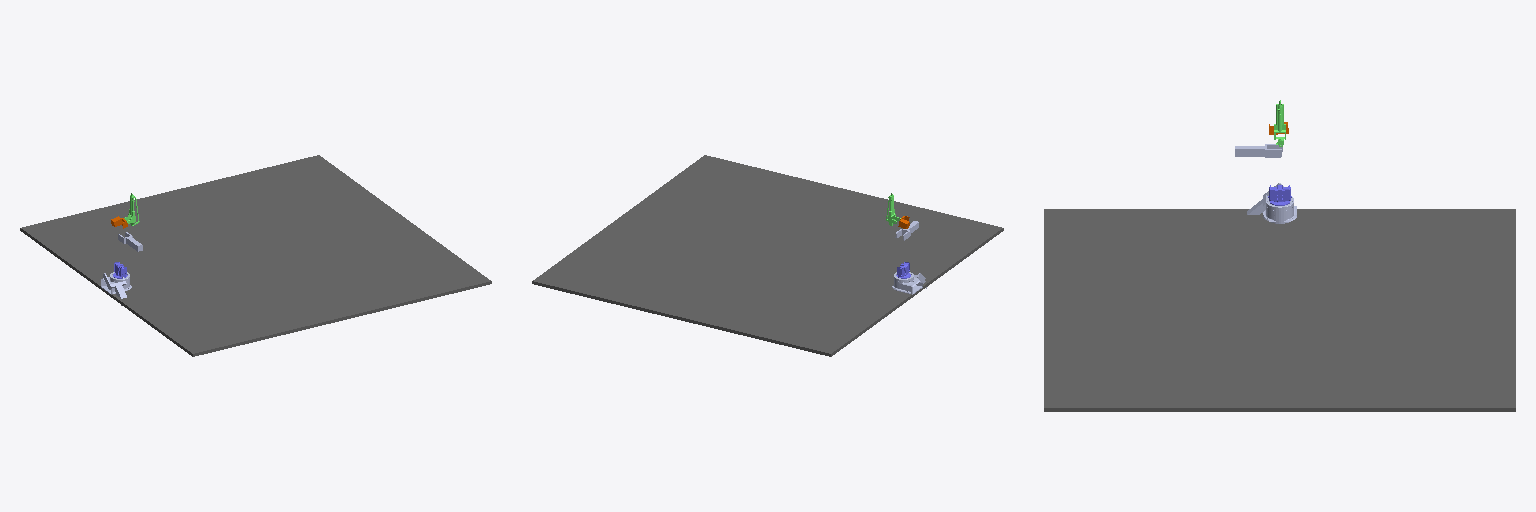
The robot description file, URDF, robot "me557_pen":
<?xml version='1.0' encoding='utf-8'?>
<robot name="me557_pen">
  <link name="base_link">
    <inertial>
      <origin xyz="-0.008662 6.915E-09 0.034203" rpy="0 0 0" />
      <mass value="0.49574" />
      <inertia ixx="0.0011079" ixy="1.4362E-10" ixz="-3.7324E-05" iyy="0.0011344" iyz="-8.7399E-11" izz="0.0016547" />
    </inertial>
    <visual>
      <origin xyz="0 0 0" rpy="0 0 0" />
      <geometry>
        <mesh filename="package://me557_pen_description/meshes/base_link.STL" />
      </geometry>
      <material name="">
        <color rgba="0.79216 0.81961 0.93333 1" />
      </material>
    </visual>
    <collision>
      <origin xyz="0 0 0" rpy="0 0 0" />
      <geometry>
        <mesh filename="package://me557_pen_description/meshes/base_link.STL" />
      </geometry>
    </collision>
  </link>
  <link name="floor">
    <visual>
      <origin xyz="0 0 0" rpy="0 0 0" />
      <geometry>
        <box size="2.0 2.0 0.02" />
      </geometry>
      <material name="floor_gray">
        <color rgba="0.45 0.45 0.45 1" />
      </material>
    </visual>
    <collision>
      <origin xyz="0 0 0" rpy="0 0 0" />
      <geometry>
        <box size="2.0 2.0 0.02" />
      </geometry>
    </collision>
  </link>
  <link name="Link1">
    <inertial>
      <origin xyz="-1.0615E-08 1.3952E-09 0.05044" rpy="0 0 0" />
      <mass value="0.24905" />
      <inertia ixx="0.00030195" ixy="6.1355E-07" ixz="2.7299E-11" iyy="0.0002068" iyz="4.0363E-11" izz="0.00019603" />
    </inertial>
    <visual>
      <origin xyz="0 0 0" rpy="0 0 0" />
      <geometry>
        <mesh filename="package://me557_pen_description/meshes/Link1.STL" />
      </geometry>
      <material name="">
        <color rgba="0.50196 0.50196 1 1" />
      </material>
    </visual>
    <collision>
      <origin xyz="0 0 0" rpy="0 0 0" />
      <geometry>
        <mesh filename="package://me557_pen_description/meshes/Link1.STL" />
      </geometry>
    </collision>
  </link>
  <joint name="base_to_floor" type="fixed">
    <origin xyz="0.91 0 -0.01" rpy="0 0 1.5708" />
    <parent link="base_link" />
    <child link="floor" />
  </joint>
  <joint name="Motor1_joint" type="revolute">
    <origin xyz="0 0 0.05" rpy="0 0 0" />
    <parent link="base_link" />
    <child link="Link1" />
    <axis xyz="0 0 -1" />
    <limit lower="-0.87265" upper="0.87265" effort="0" velocity="0" />
  </joint>
  <link name="Link2_L">
    <inertial>
      <origin xyz="1.5118E-06 0.13231 0.0003468" rpy="0 0 0" />
      <mass value="0.12701" />
      <inertia ixx="0.00076308" ixy="1.1682E-08" ixz="8.706E-09" iyy="0.00010667" iyz="-3.3149E-06" izz="0.00067538" />
    </inertial>
    <visual>
      <origin xyz="0 0 0" rpy="0 0 0" />
      <geometry>
        <mesh filename="package://me557_pen_description/meshes/Link2_L.STL" />
      </geometry>
      <material name="">
        <color rgba="0.79216 0.81961 0.93333 1" />
      </material>
    </visual>
    <collision>
      <origin xyz="0 0 0" rpy="0 0 0" />
      <geometry>
        <mesh filename="package://me557_pen_description/meshes/Link2_L.STL" />
      </geometry>
    </collision>
  </link>
  <joint name="Motor2_L" type="revolute">
    <origin xyz="0 0 0.049" rpy="1.5708 0 0.0064475" />
    <parent link="Link1" />
    <child link="Link2_L" />
    <axis xyz="0 0 1" />
    <limit lower="-1.047195" upper="1.047195" effort="0" velocity="0" />
  </joint>
  <link name="Link4">
    <inertial>
      <origin xyz="0.00036697 0.055834 -0.0004101" rpy="0 0 0" />
      <mass value="0.083206" />
      <inertia ixx="9.1587E-05" ixy="-1.7788E-06" ixz="-2.7941E-07" iyy="2.5642E-05" iyz="2.0881E-06" izz="8.5875E-05" />
    </inertial>
    <visual>
      <origin xyz="0 0 0" rpy="0 0 0" />
      <geometry>
        <mesh filename="package://me557_pen_description/meshes/Link4.STL" />
      </geometry>
      <material name="">
        <color rgba="0.79216 0.81961 0.93333 1" />
      </material>
    </visual>
    <collision>
      <origin xyz="0 0 0" rpy="0 0 0" />
      <geometry>
        <mesh filename="package://me557_pen_description/meshes/Link4.STL" />
      </geometry>
    </collision>
  </link>
  <joint name="Motor4_elb" type="revolute">
    <origin xyz="0 0.2247 0.00104" rpy="0 0 0" />
    <parent link="Link2_L" />
    <child link="Link4" />
    <axis xyz="0 0 1" />
    <limit lower="-1.876225" upper="1.876225" effort="0" velocity="0" />
  </joint>
  <link name="Link5">
    <inertial>
      <origin xyz="-0.010184 -0.0007354 0.034941" rpy="0 0 0" />
      <mass value="0.053757" />
      <inertia ixx="1.8975E-05" ixy="3.4773E-08" ixz="4.7677E-06" iyy="2.5817E-05" iyz="2.3142E-07" izz="1.7812E-05" />
    </inertial>
    <visual>
      <origin xyz="0 0 0" rpy="0 0 0" />
      <geometry>
        <mesh filename="package://me557_pen_description/meshes/Link5.STL" />
      </geometry>
      <material name="">
        <color rgba="0.9098 0.44314 0.031373 1" />
      </material>
    </visual>
    <collision>
      <origin xyz="0 0 0" rpy="0 0 0" />
      <geometry>
        <mesh filename="package://me557_pen_description/meshes/Link5.STL" />
      </geometry>
    </collision>
  </link>
  <joint name="Motor5_wr" type="revolute">
    <origin xyz="0.00108 0.0935 -0.001" rpy="1.5708 0 1.5708" />
    <parent link="Link4" />
    <child link="Link5" />
    <axis xyz="0 0 -1" />
    <limit lower="-0.95995" upper="0.95995" effort="0" velocity="0" />
  </joint>
  <link name="Link6">
    <inertial>
      <origin xyz="0.048807 0.037513 -0.0021456" rpy="0 0 0" />
      <mass value="0.081357" />
      <inertia ixx="2.8223E-05" ixy="-3.704E-06" ixz="-2.8914E-06" iyy="0.00024631" iyz="5.6477E-07" izz="0.00024327" />
    </inertial>
    <visual>
      <origin xyz="0 0 0" rpy="0 0 0" />
      <geometry>
        <mesh filename="package://me557_pen_description/meshes/Link6.STL" />
      </geometry>
      <material name="">
        <color rgba="0.50196 1 0.50196 1" />
      </material>
    </visual>
    <collision>
      <origin xyz="0 0 0" rpy="0 0 0" />
      <geometry>
        <mesh filename="package://me557_pen_description/meshes/Link6.STL" />
      </geometry>
    </collision>
  </link>
  <joint name="Joint_EE" type="revolute">
    <origin xyz="0 -0.001 0.041" rpy="1.5708 0 0" />
    <parent link="Link5" />
    <child link="Link6" />
    <axis xyz="0 0 1" />
    <limit lower="-1.1781" upper="1.1781" effort="0" velocity="0" />
  </joint>
  <link name="Pen_tip">
    <inertial>
      <origin xyz="1.2388E-08 -1.5096E-08 -0.0095156" rpy="0 0 0" />
      <mass value="0.00038082" />
      <inertia ixx="6.068E-09" ixy="2.1976E-14" ixz="1.8806E-14" iyy="6.0679E-09" iyz="-2.2912E-14" izz="1.8923E-09" />
    </inertial>
    <visual>
      <origin xyz="0 0 0" rpy="0 0 0" />
      <geometry>
        <mesh filename="package://me557_pen_description/meshes/Pen_tip.STL" />
      </geometry>
      <material name="">
        <color rgba="0.50196 1 0.50196 1" />
      </material>
    </visual>
    <collision>
      <origin xyz="0 0 0" rpy="0 0 0" />
      <geometry>
        <mesh filename="package://me557_pen_description/meshes/Pen_tip.STL" />
      </geometry>
    </collision>
  </link>
  <joint name="pen_tip_fixed" type="fixed">
    <origin xyz="0.17403 0.0375 -0.00098" rpy="1.5708 -1.5643 1.5708" />
    <parent link="Link6" />
    <child link="Pen_tip" />
  </joint>
  <link name="Link3_R">
    <inertial>
      <origin xyz="0.052802 -0.10824 0.024307" rpy="0 0 0" />
      <mass value="5.5098" />
      <inertia ixx="0.21583" ixy="0.00015166" ixz="-0.00045441" iyy="0.10918" iyz="0.049251" izz="0.15359" />
    </inertial>
  </link>
  <joint name="Motor3_R" type="revolute">
    <origin xyz="-0.052457 -0.00059406 0.0483" rpy="0 0 0" />
    <parent link="Link1" />
    <child link="Link3_R" />
    <axis xyz="-0.99994 -0.011324 0" />
    <limit lower="-1.0472" upper="1.0472" effort="6" velocity="6.6" />
    <mimic joint="Motor2_L" multiplier="-1" offset="0" />
  </joint>
  <ros2_control name="FakeSystem" type="system">
    <hardware>
      <plugin>mock_components/GenericSystem</plugin>
    </hardware>
    <joint name="Motor1_joint">
      <command_interface name="position" />
      <state_interface name="position">
        <param name="initial_value">0.0</param>
      </state_interface>
      <state_interface name="velocity" />
    </joint>
    <joint name="Motor2_L">
      <command_interface name="position" />
      <state_interface name="position">
        <param name="initial_value">0.0</param>
      </state_interface>
      <state_interface name="velocity" />
    </joint>
    <joint name="Motor4_elb">
      <command_interface name="position" />
      <state_interface name="position">
        <param name="initial_value">0.0</param>
      </state_interface>
      <state_interface name="velocity" />
    </joint>
    <joint name="Motor5_wr">
      <command_interface name="position" />
      <state_interface name="position">
        <param name="initial_value">0.0</param>
      </state_interface>
      <state_interface name="velocity" />
    </joint>
    <joint name="Joint_EE">
      <command_interface name="position" />
      <state_interface name="position">
        <param name="initial_value">0.0</param>
      </state_interface>
      <state_interface name="velocity" />
    </joint>
  </ros2_control>
</robot>

--- What the picture shows (computed from the rendered views, not written in the file) ---
3 views of the same robot in one strip: view 1: azimuth 30°, elevation 25°; view 2: azimuth 150°, elevation 25°; view 3: azimuth 270°, elevation 25° (orthographic).
Model me557_pen with 9 links and 8 joints (6 revolute, 2 fixed), rooted at base_link, posed every joint at zero.
Visible links, largest first — view 1: floor; view 2: floor; view 3: floor, base_link, Link4.
Link boxes in pixels (x1=…): floor: x1=20, y1=155, x2=491, y2=356; floor: x1=532, y1=155, x2=1003, y2=356; floor: x1=1044, y1=209, x2=1515, y2=411; base_link: x1=1263, y1=197, x2=1296, y2=223; Link4: x1=1235, y1=144, x2=1282, y2=157.
Bounding box of the posed robot: 2.02 × 2 × 0.6382 m (x, y, z).
7 mesh visuals loaded from 7 distinct referenced files (7 binary STL).
